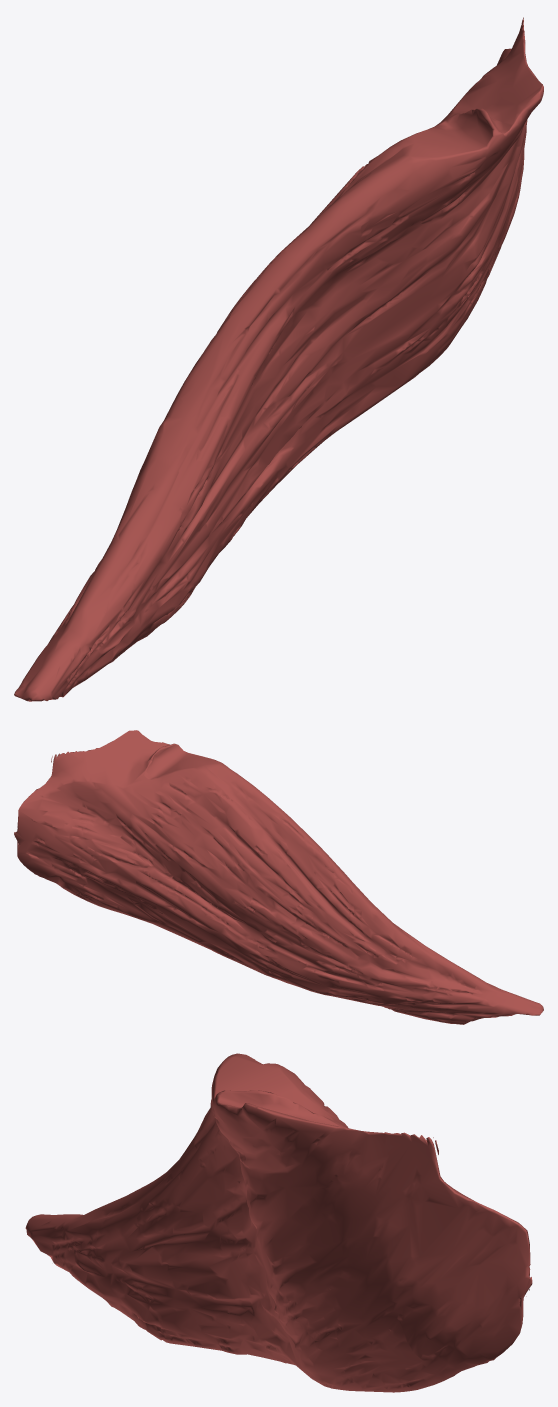
File: FMA22340.glb
The picture shows the model from 3 angles, top to bottom: view 1: azimuth 30°, elevation 25°; view 2: azimuth 150°, elevation 25°; view 3: azimuth 270°, elevation 25°; orthographic projection. The views are drawn at different scales.
Parts seen in each view (by area): view 1: FMA22340; view 2: FMA22340; view 3: FMA22340.
Part boxes in pixels (<box>): FMA22340: <box>14,17,543,701</box>; FMA22340: <box>14,730,543,1024</box>; FMA22340: <box>25,1053,532,1392</box>.
Size of the model in its own units: 0.1066 by 0.0617 by 0.0574.
